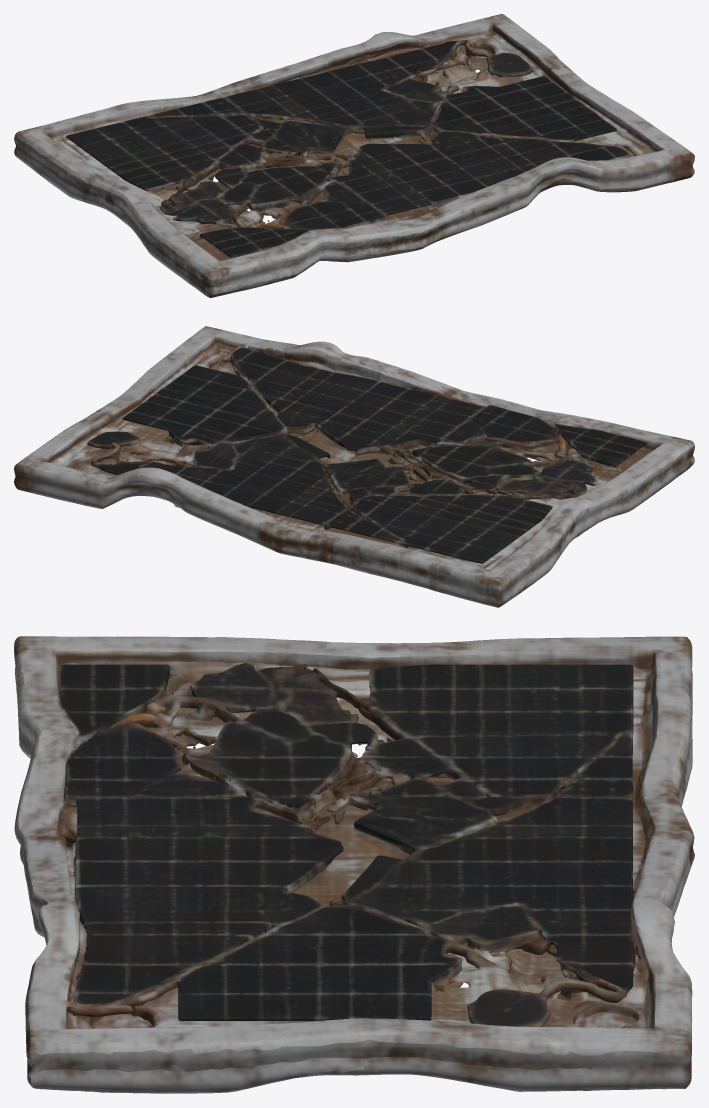
File: fallen_panel.glb
3 renders of one model, top to bottom at view 1: azimuth 30°, elevation 25°; view 2: azimuth 150°, elevation 25°; view 3: azimuth 270°, elevation 25°, orthographic. The views are drawn at different scales.
Visible parts, largest first — view 1: world; view 2: world; view 3: world.
Boxes of the visible parts, bbox=[...] form: world: bbox=[14, 14, 694, 297]; world: bbox=[14, 326, 694, 607]; world: bbox=[14, 636, 694, 1093].
Bounding box in the file's own units: 1.65 × 0.1555 × 1.15.
1 material, 1 textured.
